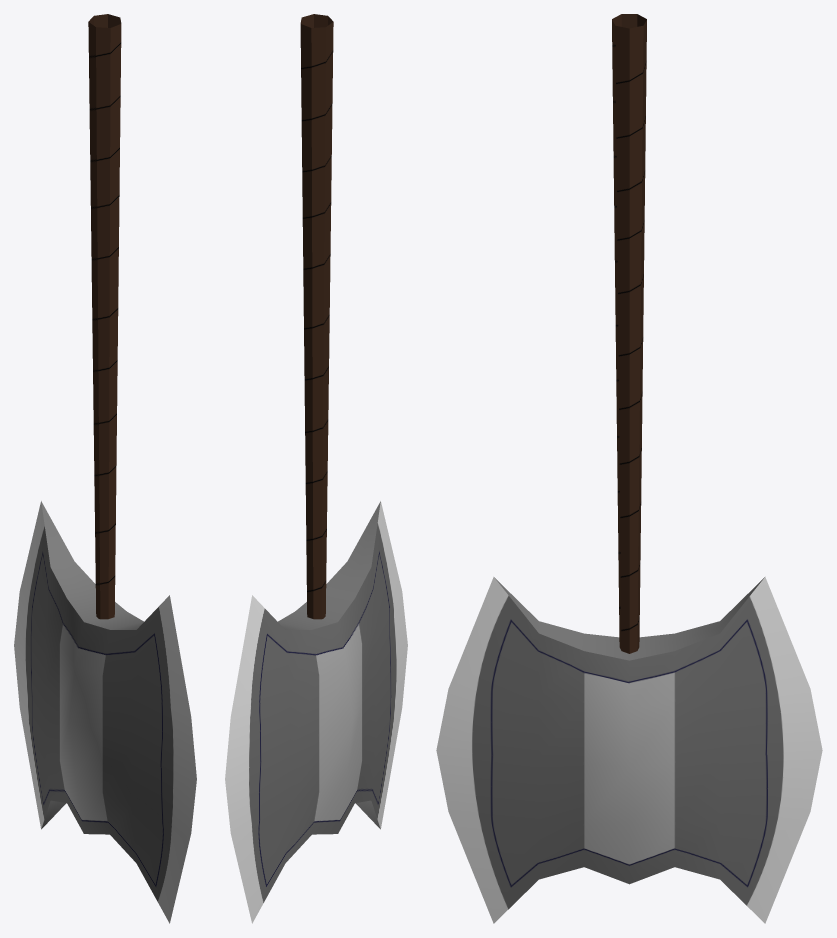
The model's file is Axe Textured.fbx.
3 renders of one model, left to right at view 1: azimuth 30°, elevation 25°; view 2: azimuth 150°, elevation 25°; view 3: azimuth 270°, elevation 25°, orthographic. The views are drawn at different scales.
Parts seen in each view (by area): view 1: Axe; view 2: Axe; view 3: Axe.
Boxes of the visible parts, x1,y1,x2,y2 form: Axe: (14, 14, 196, 923); Axe: (225, 14, 407, 923); Axe: (436, 14, 822, 923).
Size of the model in its own units: 1.2 by 13.65 by 5.29.
